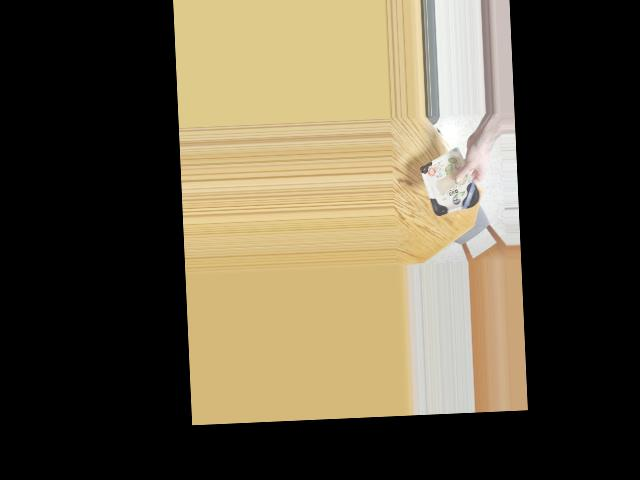cheese: (421, 156, 482, 217)
